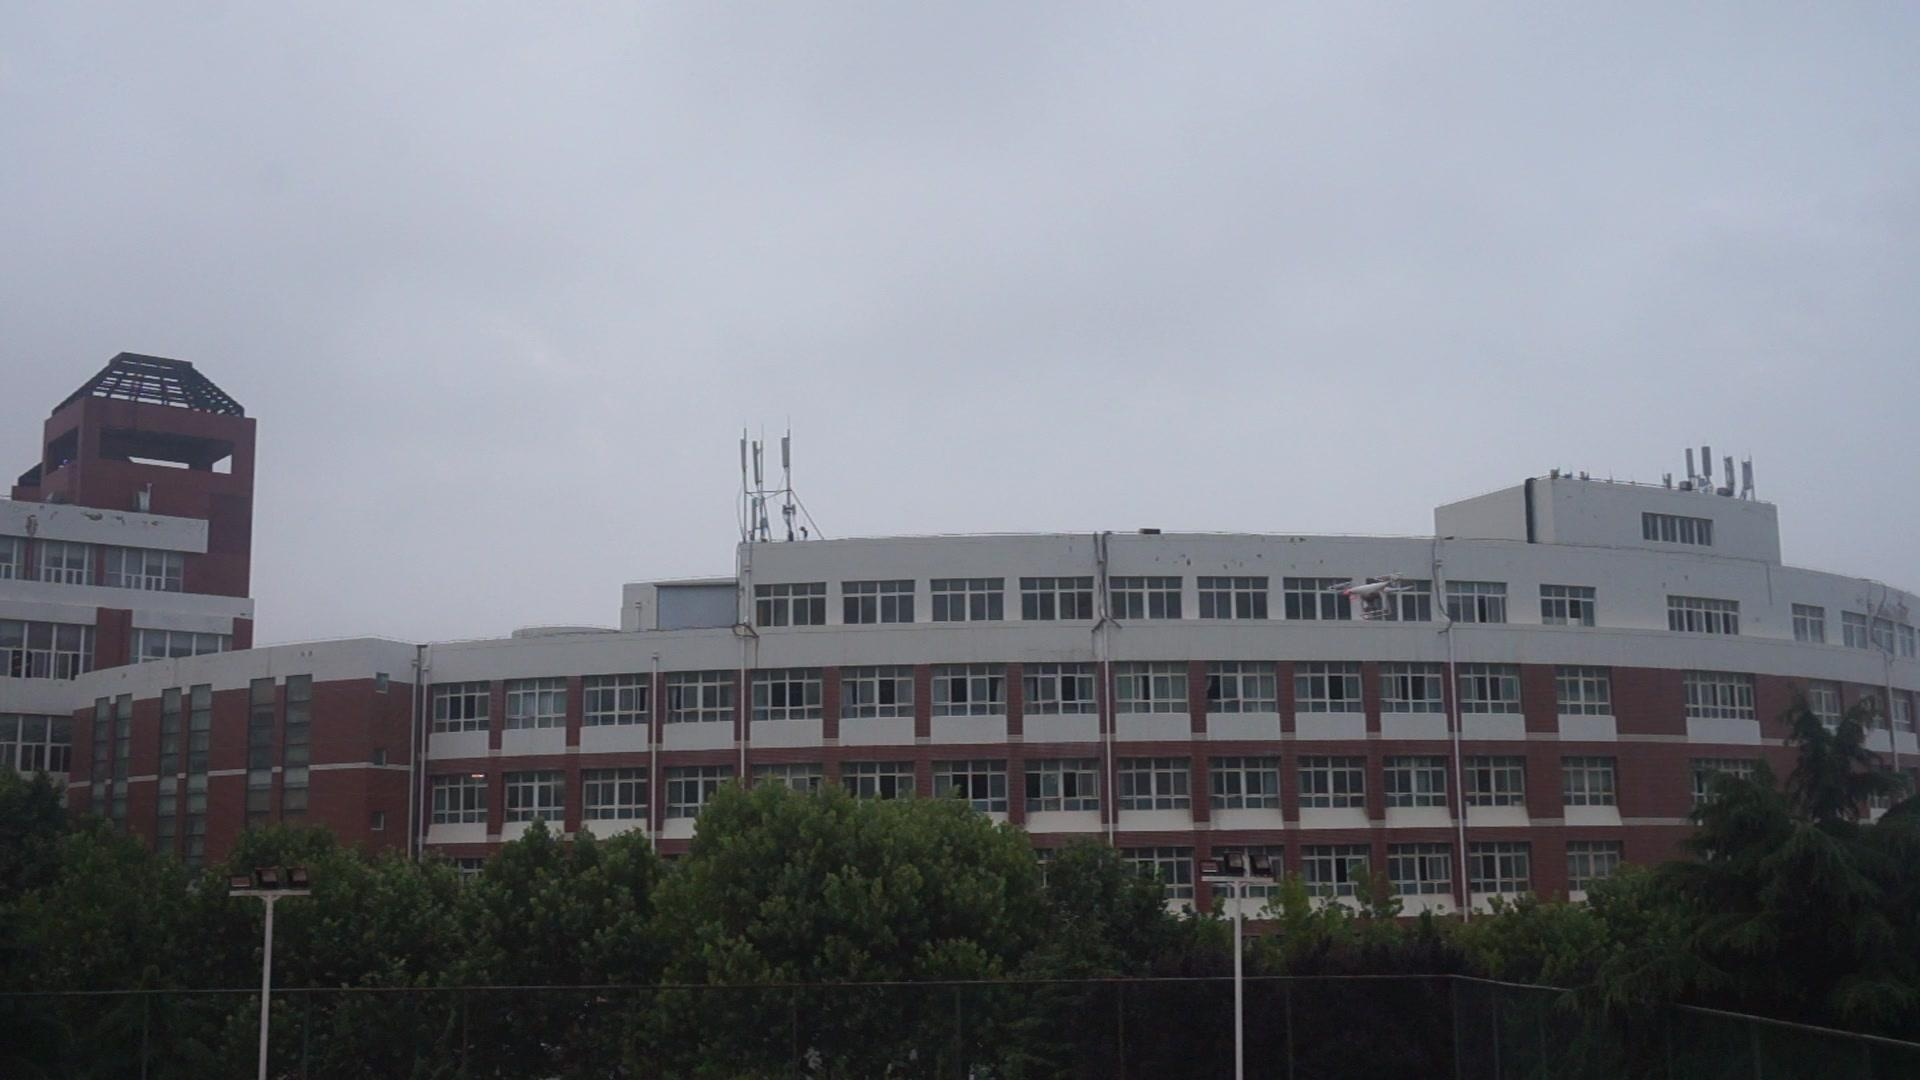UAV: (1328, 574, 1414, 621)
